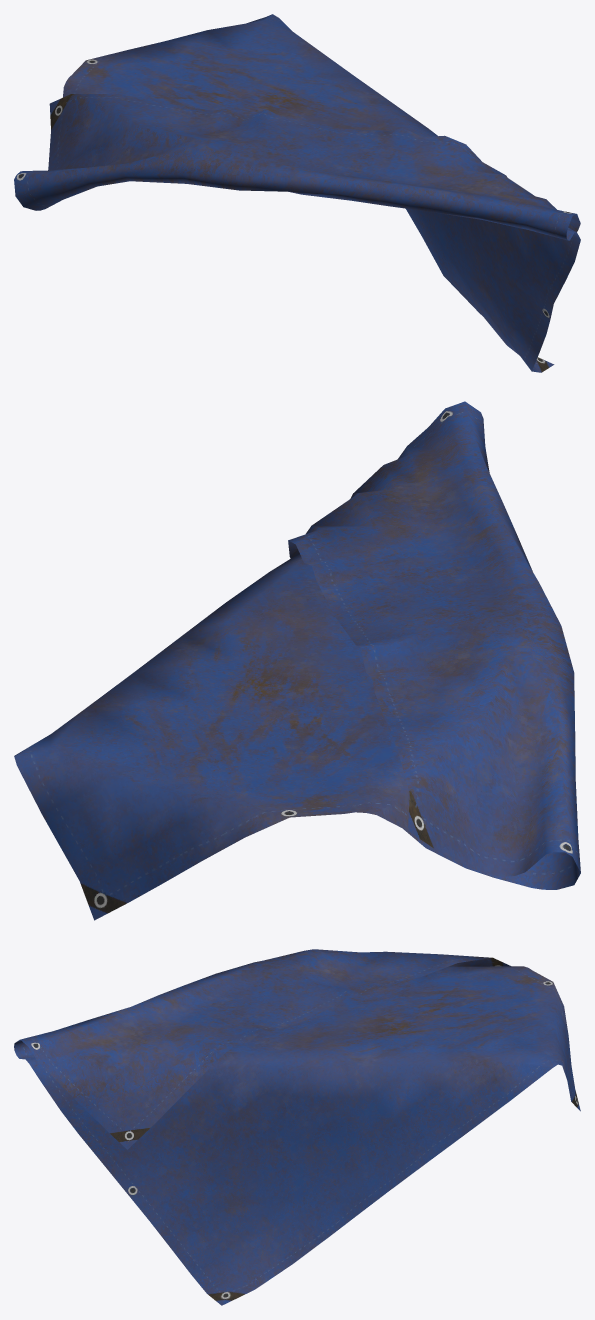
The model's file is Table_Combined_low_1_Tarp_low1.fbx.
3 views of the same model, one above another, from view 1: azimuth 30°, elevation 25°; view 2: azimuth 150°, elevation 25°; view 3: azimuth 270°, elevation 25° (orthographic). The views are drawn at different scales.
Visible parts, largest first — view 1: Table_Combined_low_1_Tarp_low1; view 2: Table_Combined_low_1_Tarp_low1; view 3: Table_Combined_low_1_Tarp_low1.
Boxes of the visible parts, x1=… form: Table_Combined_low_1_Tarp_low1: x1=14, y1=14, x2=580, y2=372; Table_Combined_low_1_Tarp_low1: x1=14, y1=401, x2=580, y2=920; Table_Combined_low_1_Tarp_low1: x1=14, y1=949, x2=580, y2=1305.
Size of the model in its own units: 140 by 82.49 by 189.
Materials: 1 (1 with a texture image).
